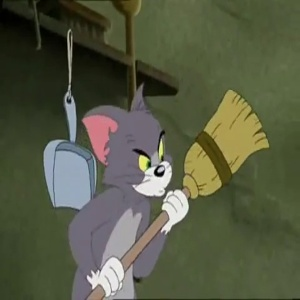Tom: (76, 89, 178, 196)
